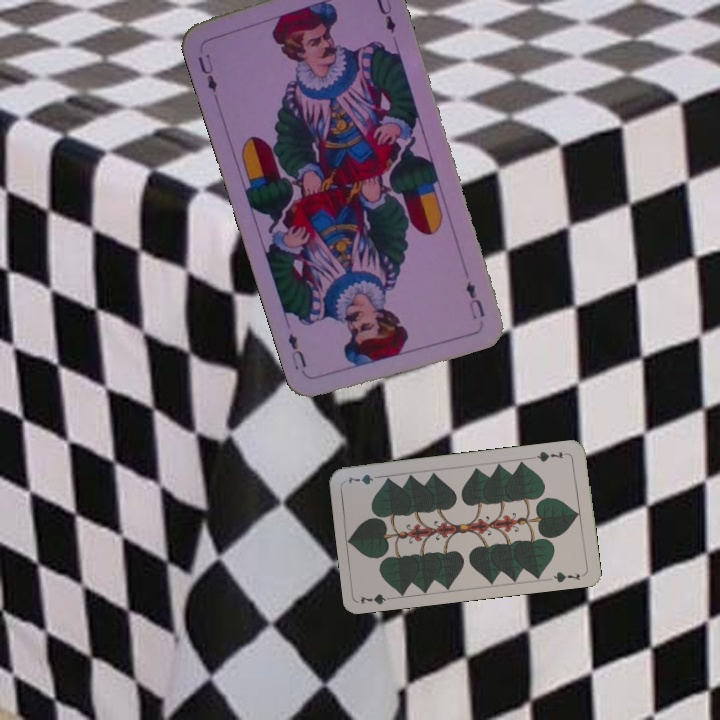EU: (461, 277, 488, 323), (194, 50, 220, 95)
G7: (357, 590, 398, 607), (530, 447, 565, 465)
